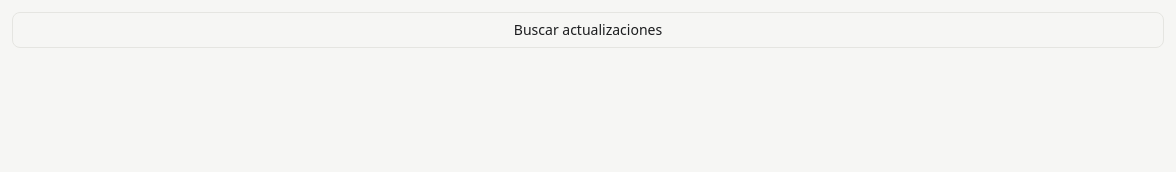
<UpdateButton/> › al día
Step 1. Click the button "Buscar actualizaciones" → (588, 30), box [12, 12, 1164, 48]
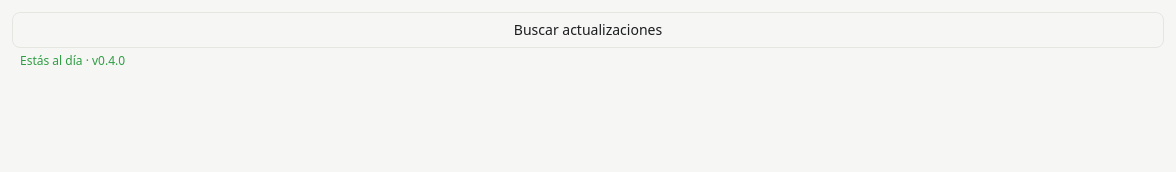
Check: the text "Estás al día · v0.4.0" is shown, box [20, 52, 125, 69]
